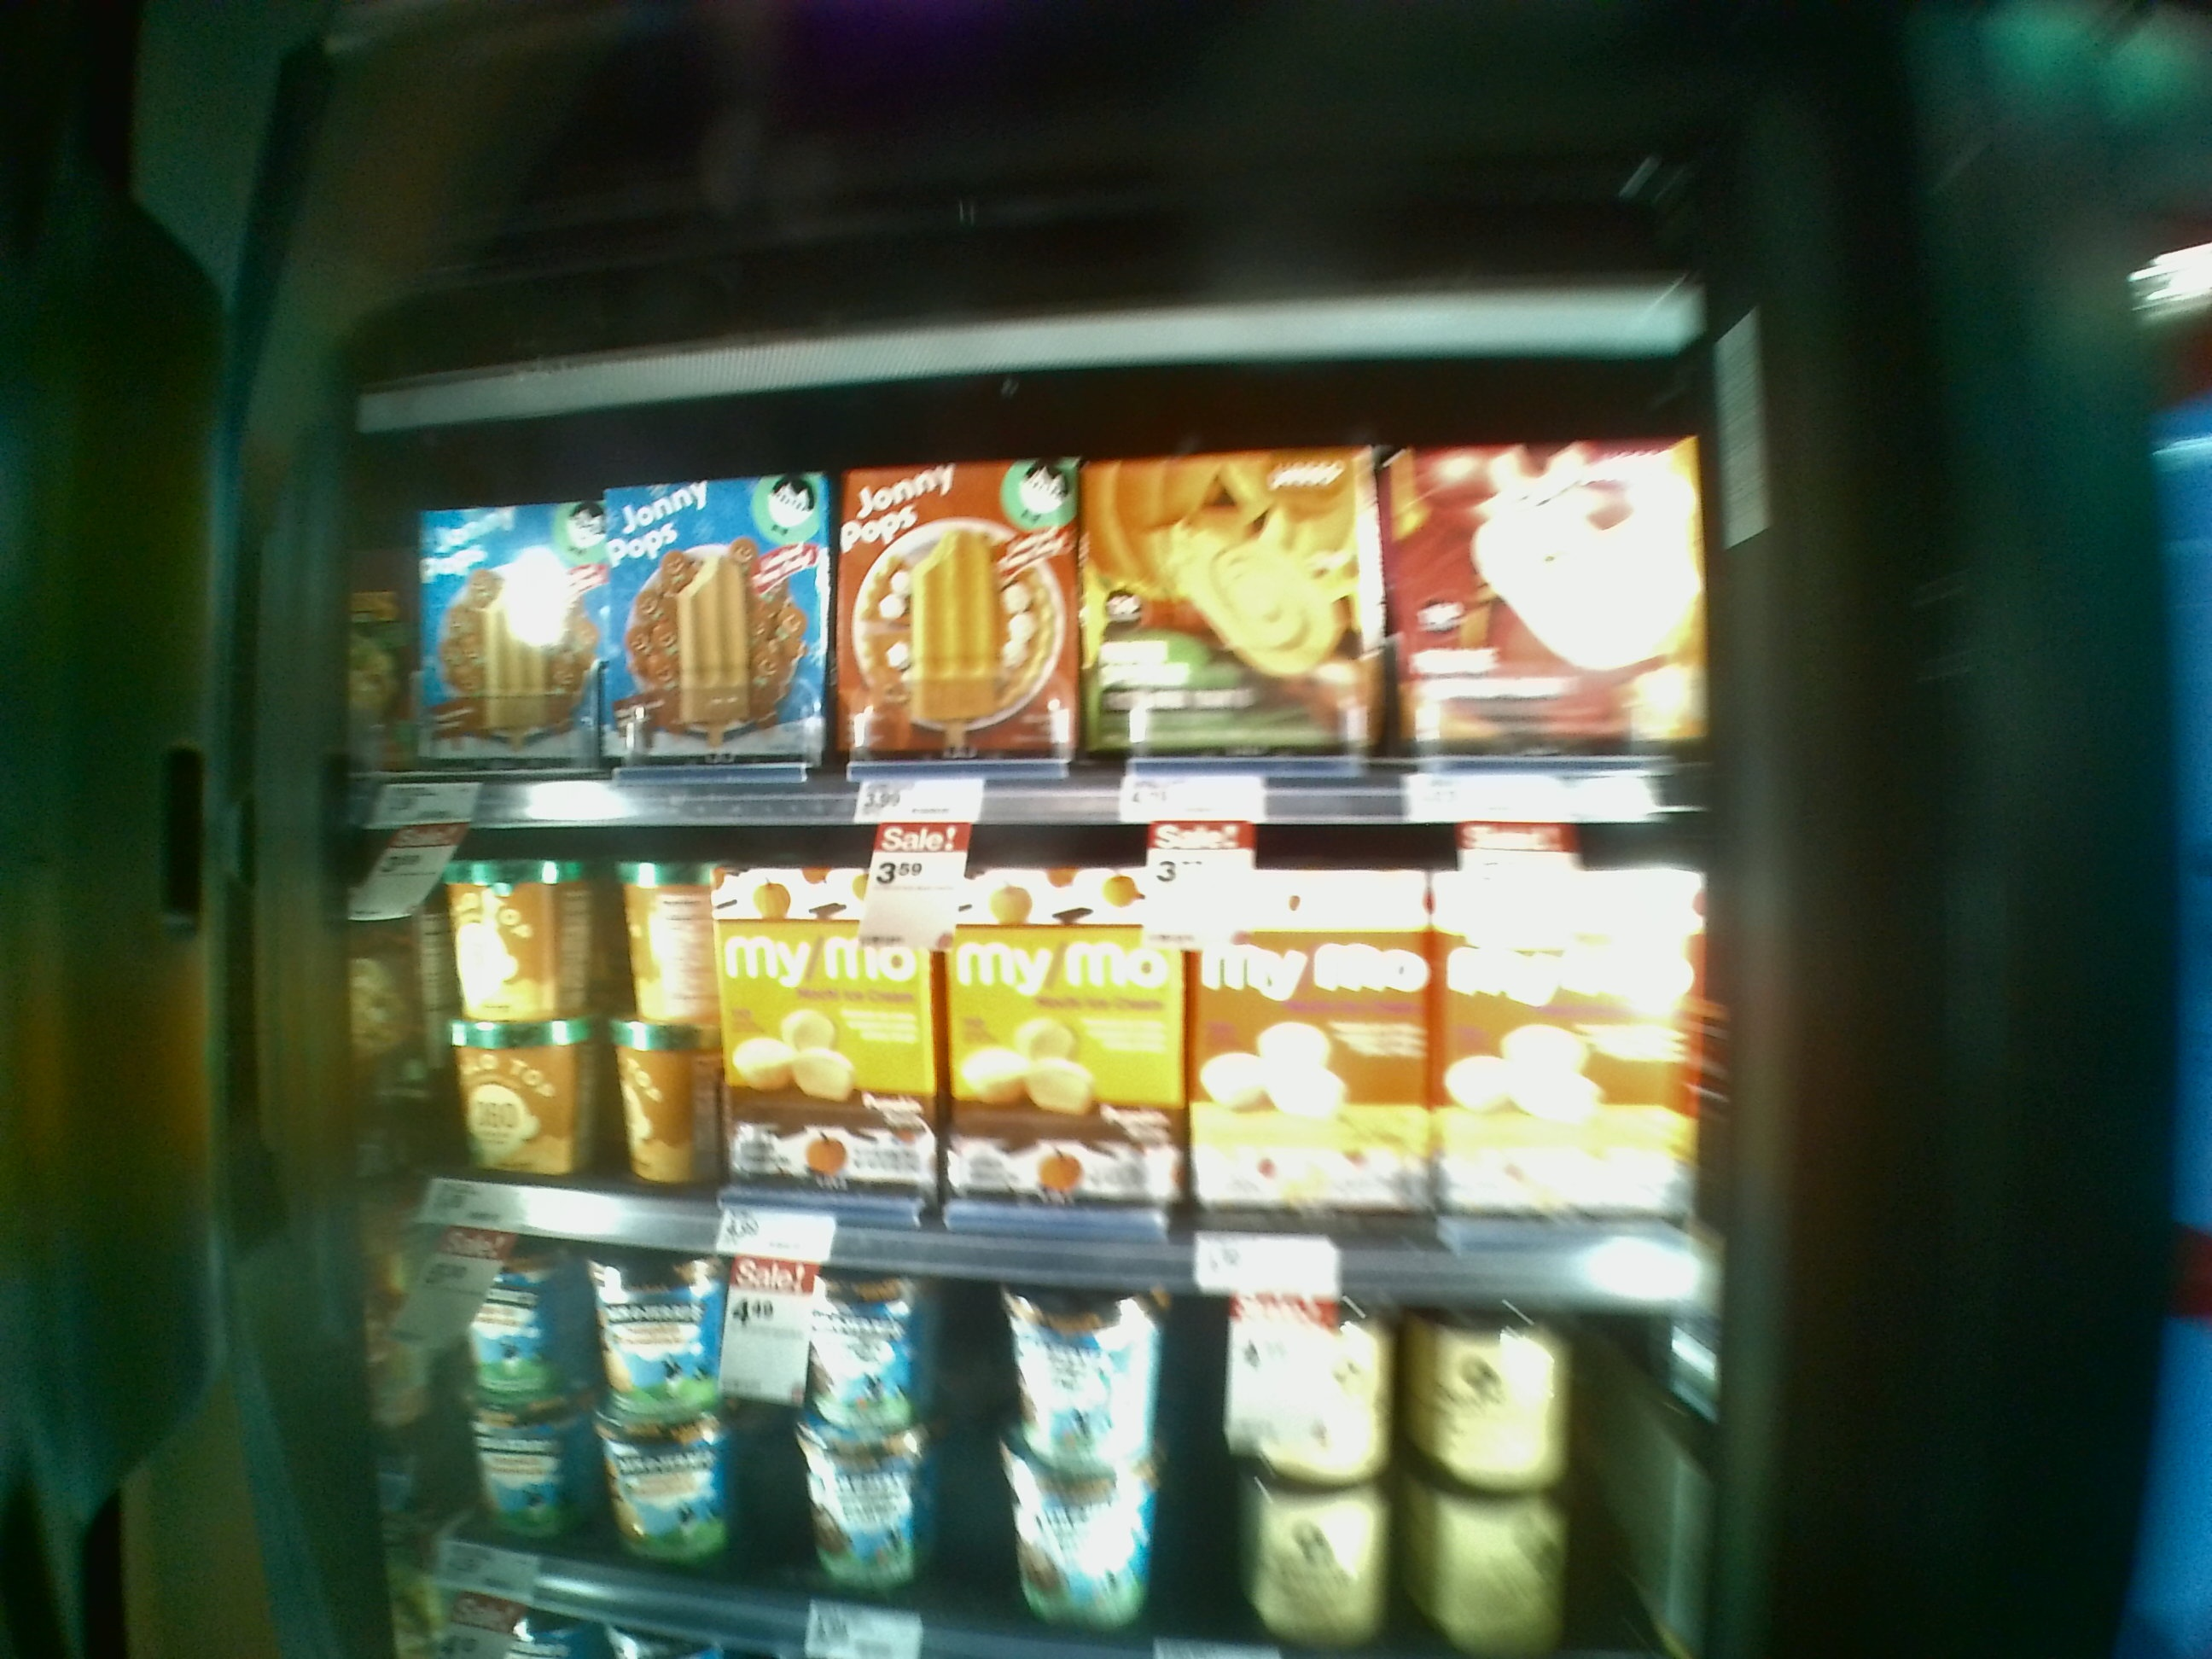shelf: (355, 784, 1735, 1335), (355, 416, 1702, 838)
